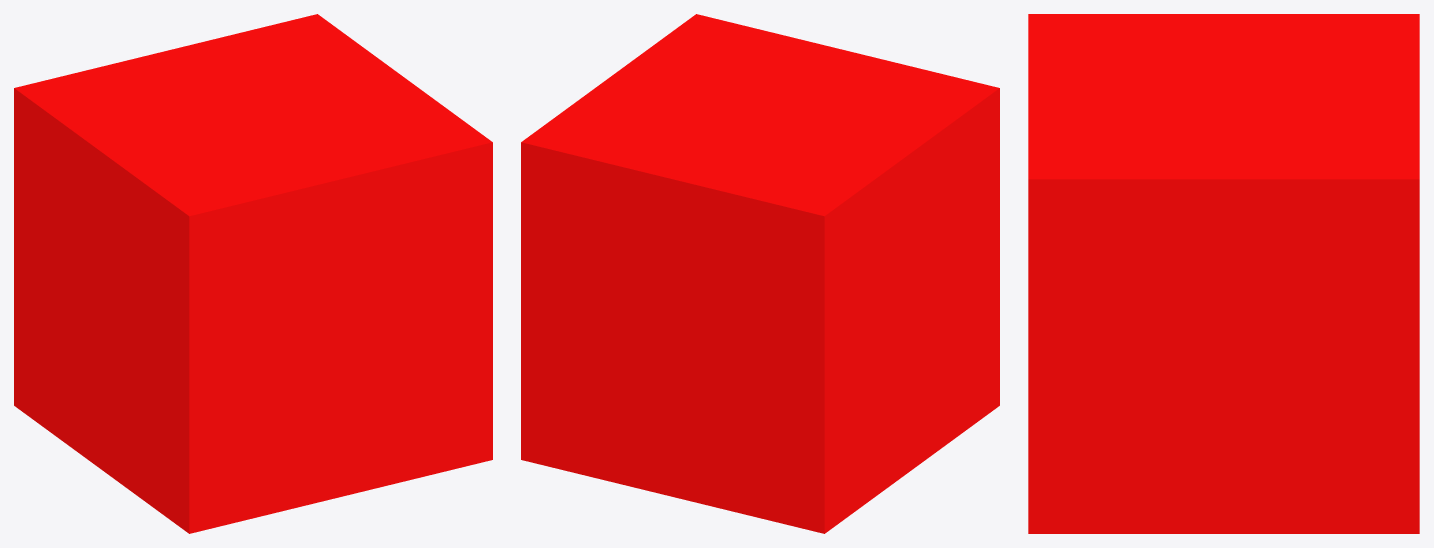
The model's file is nested.gltf.
3 views of the same model, side by side, from view 1: azimuth 30°, elevation 25°; view 2: azimuth 150°, elevation 25°; view 3: azimuth 270°, elevation 25° (orthographic). The views are drawn at different scales.
Parts seen in each view (by area): view 1: outer; view 2: outer; view 3: outer.
Boxes of the visible parts, left/top/right/bottom form: outer: left=14, top=14, right=492, bottom=533; outer: left=521, top=14, right=999, bottom=533; outer: left=1028, top=14, right=1419, bottom=533.
Bounding box in the file's own units: 1 × 1 × 1.
